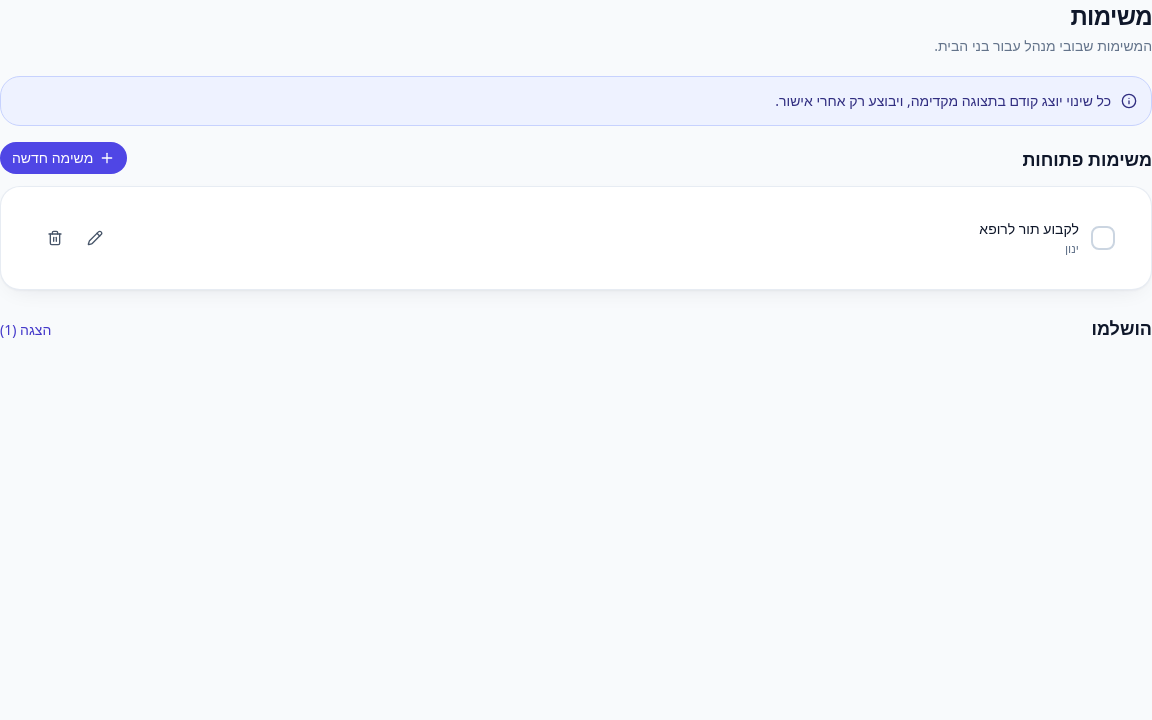
Scenario: what the browser sends › never names a todo or input_boolean service
This screenshot has width=1152, height=720.
What coordinates should you click on to do the following:
click the button named "מחיקה"
I would click on:
 (55, 238)
Its box is [37,220,73,256].
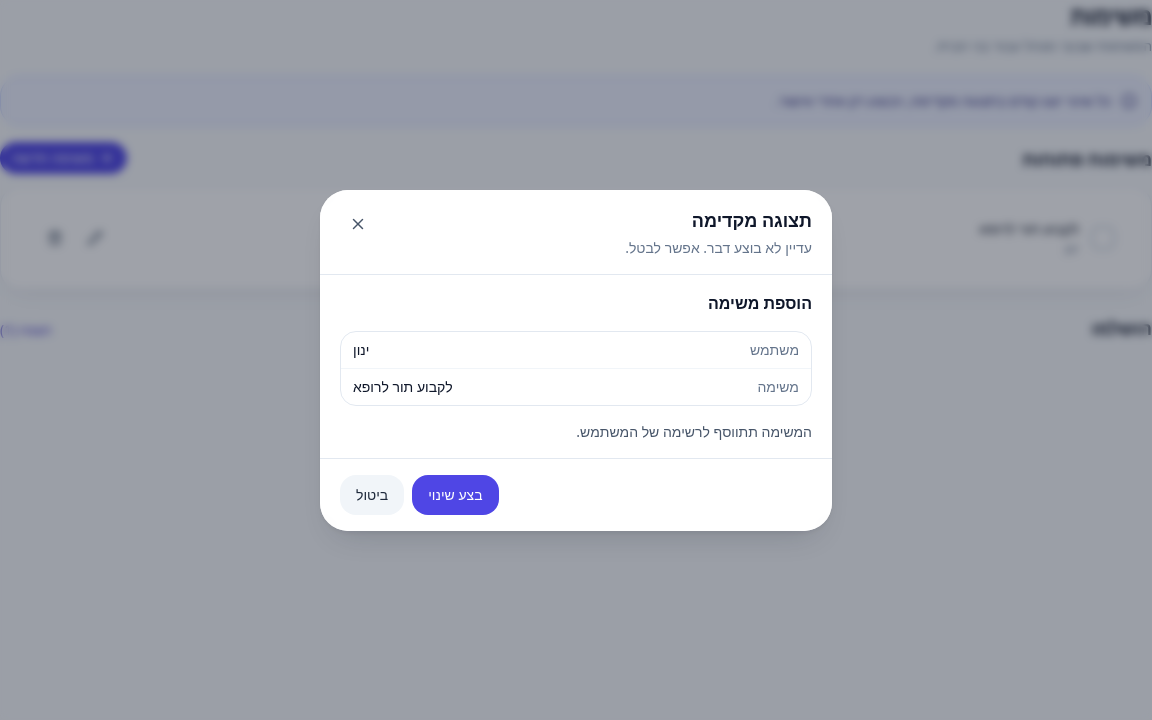
Expected: the dialog is shown, [320,190,832,530]
